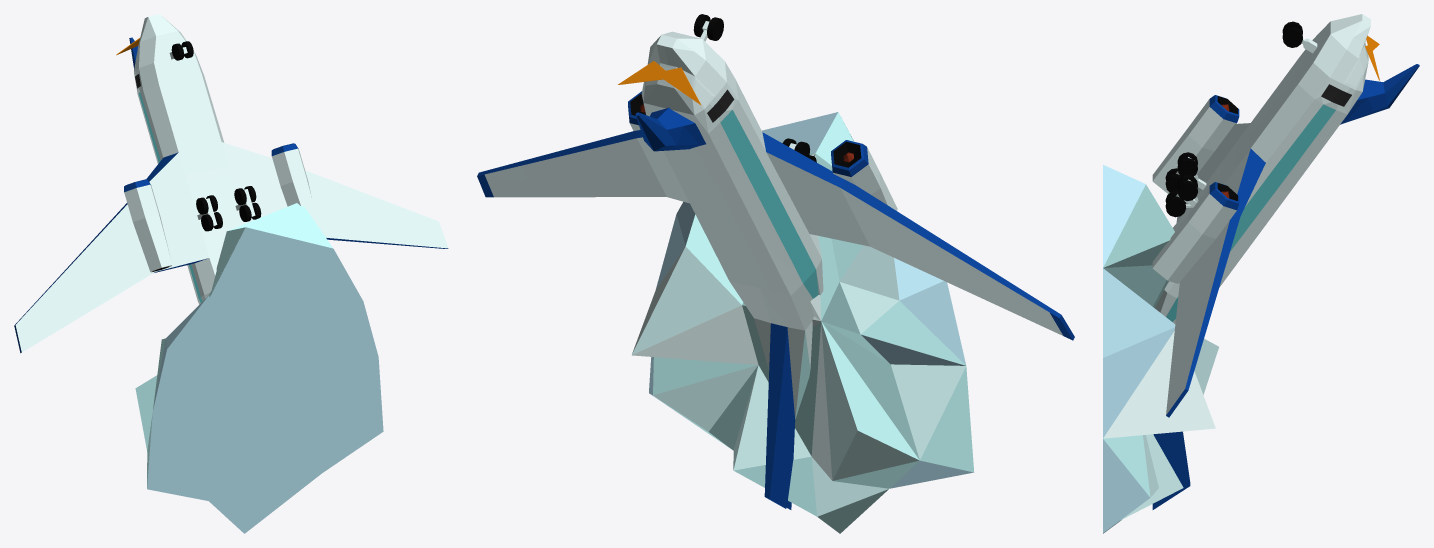
Rendered from statue_9.fbx.
3 renders of one model, left to right at view 1: azimuth 30°, elevation 25°; view 2: azimuth 150°, elevation 25°; view 3: azimuth 270°, elevation 25°, orthographic. The views are drawn at different scales.
Visible parts, largest first — view 1: statue_9; view 2: statue_9; view 3: statue_9.
Part boxes in pixels (x1,y1,x2,y2): statue_9: (14,14,448,533); statue_9: (477,14,1074,533); statue_9: (1103,14,1419,533).
Bounding box in the file's own units: 551 × 538 × 293.
